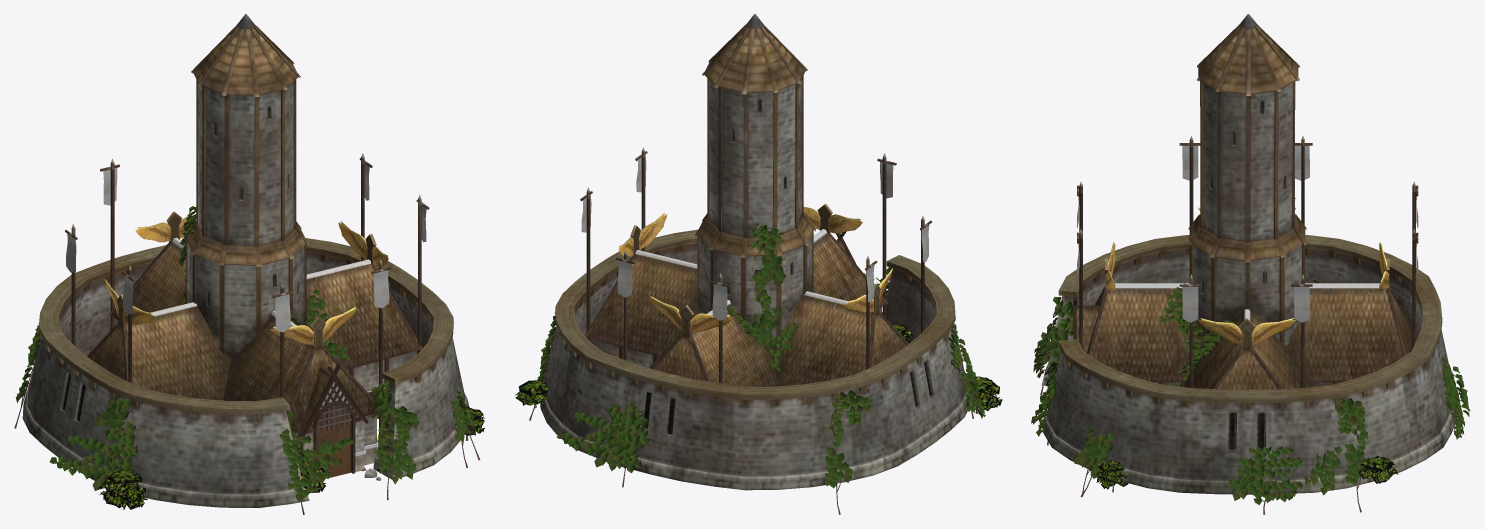
Rendered from 88-wonder-odin.glb.
3 renders of one model, left to right at view 1: azimuth 30°, elevation 25°; view 2: azimuth 150°, elevation 25°; view 3: azimuth 270°, elevation 25°, orthographic. The views are drawn at different scales.
Size of the model in its own units: 17.88 by 17.57 by 16.7.
18 materials, 16 textured.
